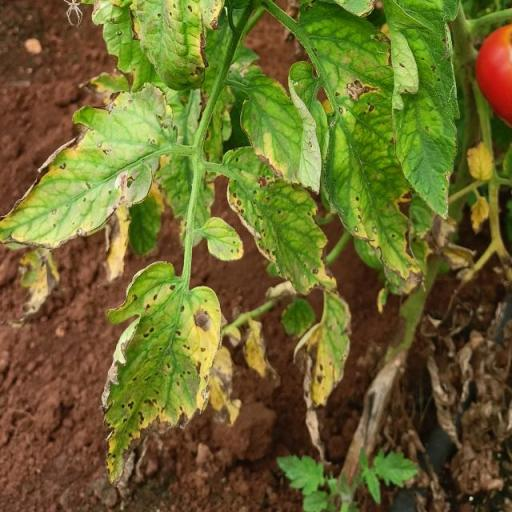disease_tomato: (289, 0, 426, 291), (2, 80, 185, 252), (95, 258, 224, 490), (224, 144, 342, 299)
